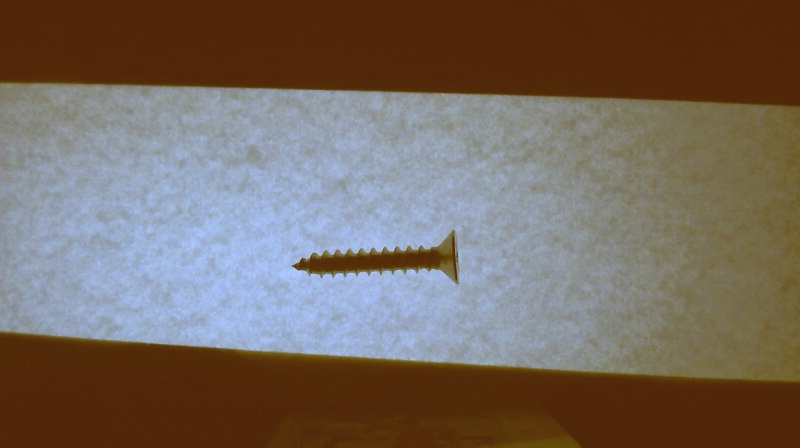S001: (289, 227, 464, 287)
